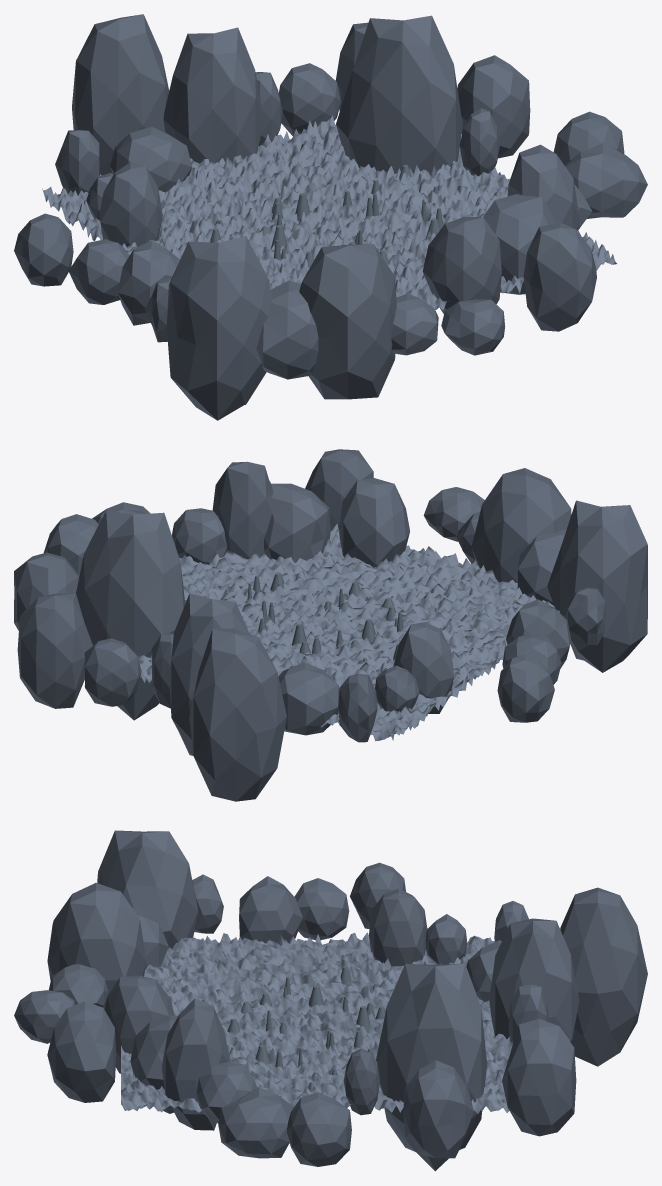
The model's file is wuthering_props.gltf.
3 renders of one model, top to bottom at view 1: azimuth 30°, elevation 25°; view 2: azimuth 150°, elevation 25°; view 3: azimuth 270°, elevation 25°, orthographic. The views are drawn at different scales.
Size of the model in its own units: 370 by 130 by 386.
